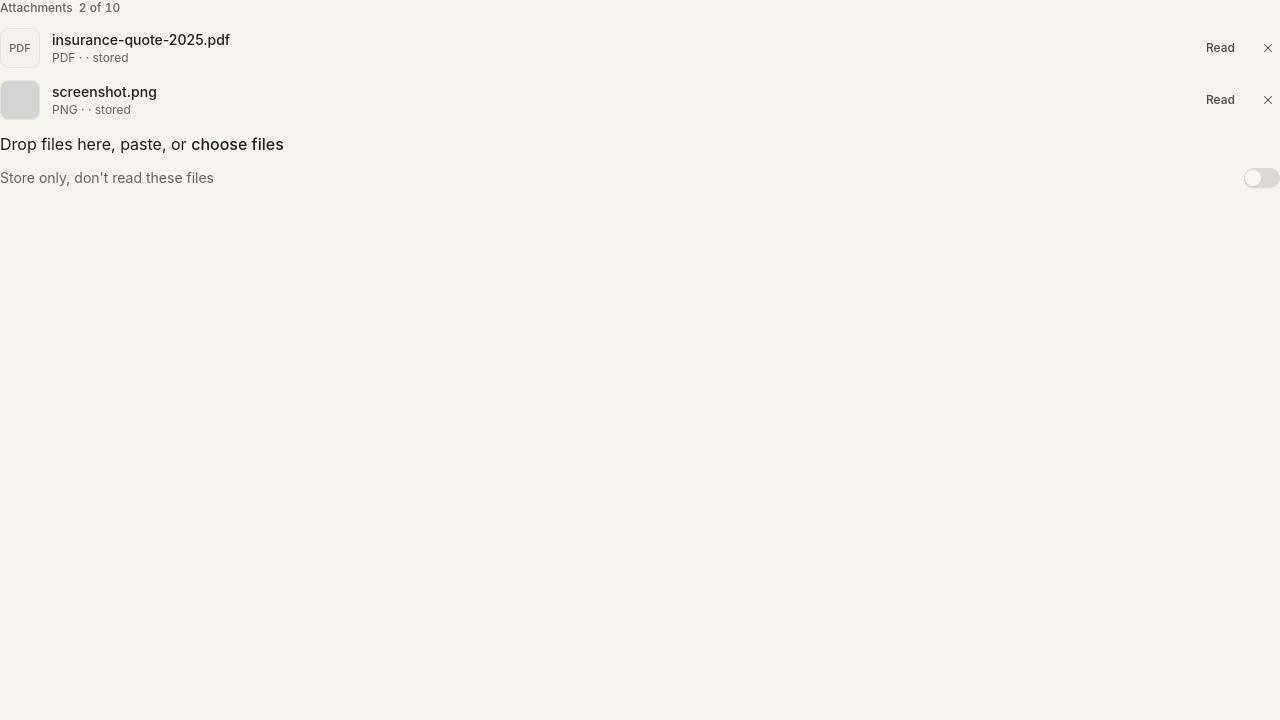
Test: PlannerTaskAttachments › removes a file after the confirmation, and puts it back when the server refuses
Later steps or results of the test are not shown.
Click the button named "Remove file" in the row of "insurance-quote-2025.pdf": click(1268, 48) [1256,36,1279,60]
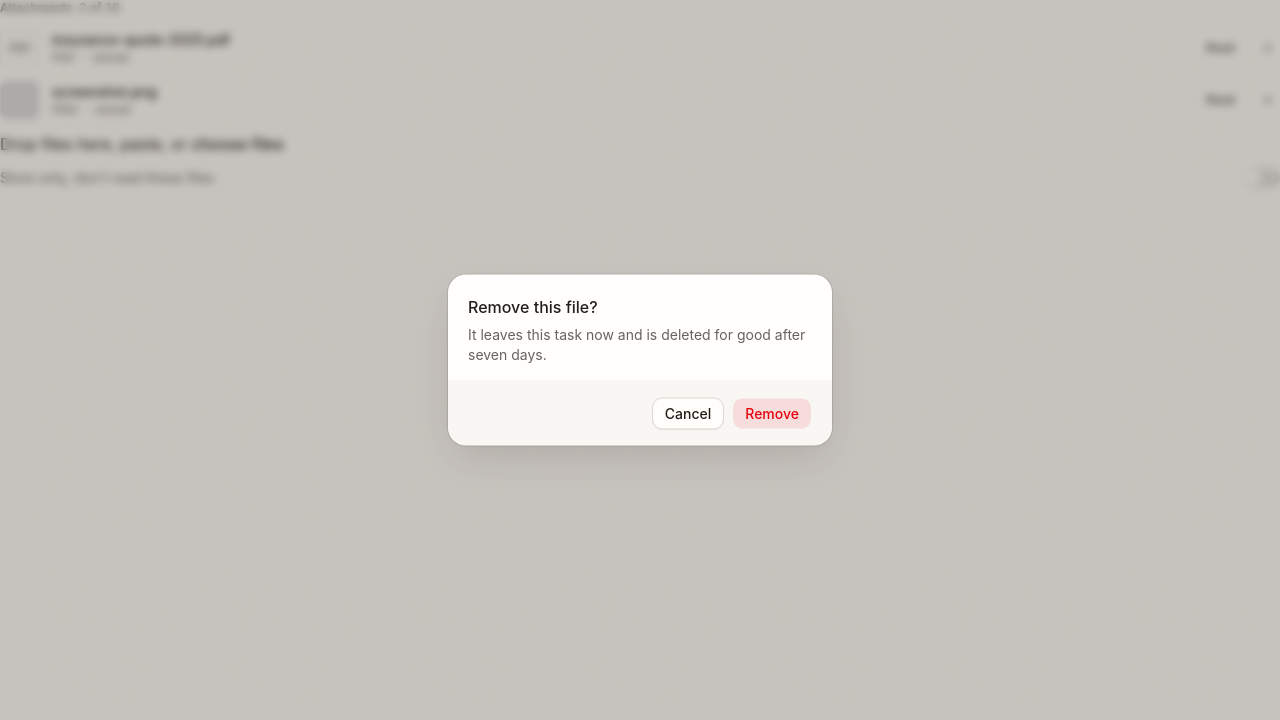
Check: the text "Remove this file?" is shown, box [468,294,598,318]
